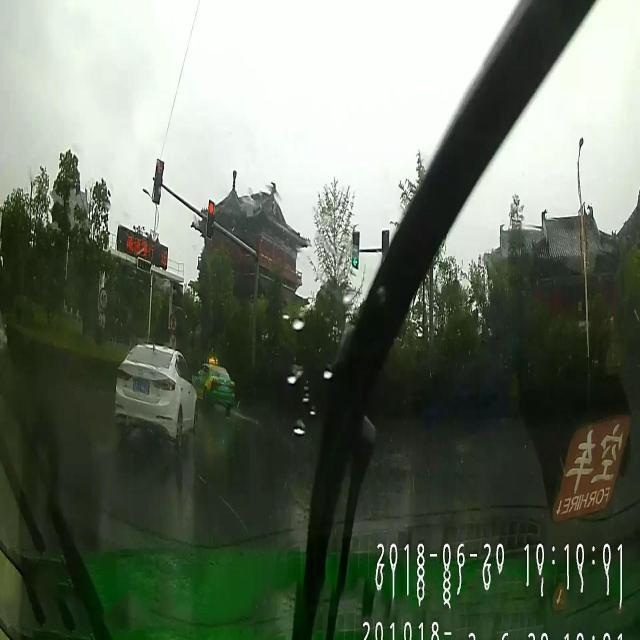car: (114, 340, 198, 450), (191, 358, 234, 414)
